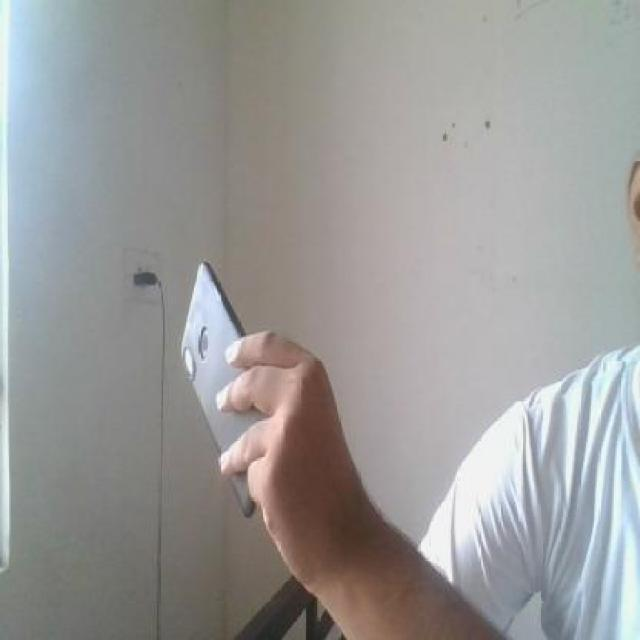Phone: (175, 258, 272, 524)
